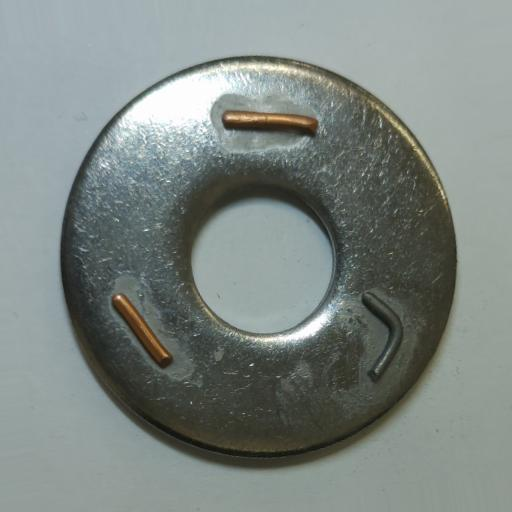excess_material: (111, 292, 174, 371), (359, 290, 405, 386), (220, 108, 320, 137)
